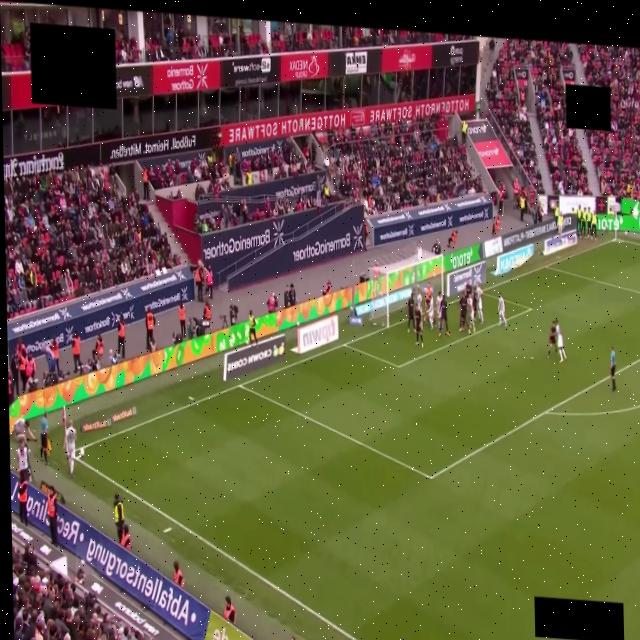ball: (79, 448, 83, 457)
player: (64, 420, 76, 475), (438, 294, 449, 336), (547, 321, 557, 358), (556, 324, 565, 362), (414, 308, 422, 347), (425, 295, 434, 329), (467, 295, 475, 333), (474, 284, 482, 322), (458, 294, 466, 331), (407, 293, 414, 333), (425, 283, 433, 314), (498, 293, 505, 326), (436, 291, 441, 335), (415, 286, 421, 311), (555, 319, 562, 335), (466, 281, 472, 295)
referee: (610, 346, 615, 392)
